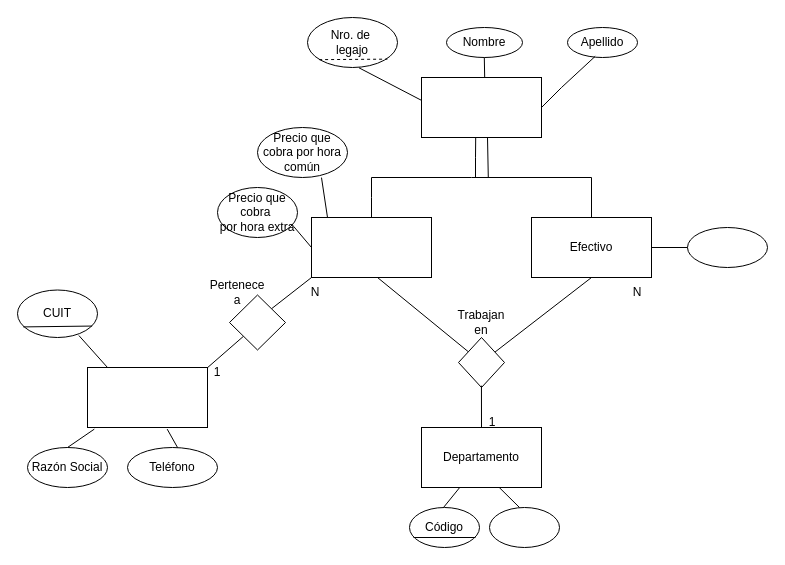
This 785x565 diagram has some shape labels left out. Each missing label, with the centre of its shape:
"Consultora" belongs at point 147,397.
"Contratado" belongs at point 371,247.
"Descripción" belongs at point 524,527.
"Empleado" belongs at point 481,107.
"Salario" belongs at point 727,247.
